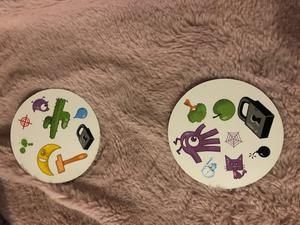arbre: (179, 96, 207, 125)
bombe: (246, 142, 272, 159)
bonhomme_neige: (200, 157, 218, 178)
cactus: (41, 97, 70, 140)
cadenas: (235, 95, 276, 140), (73, 122, 94, 150)
chat: (223, 152, 248, 180)
clown: (18, 113, 33, 131)
dooble: (171, 122, 223, 165)
goutte: (71, 105, 90, 122)
lune: (34, 143, 66, 176)
marteau: (51, 149, 89, 173)
oiseau: (30, 95, 51, 115)
pomme: (209, 96, 236, 123)
tache: (19, 137, 36, 156)
toile: (221, 128, 245, 148)
